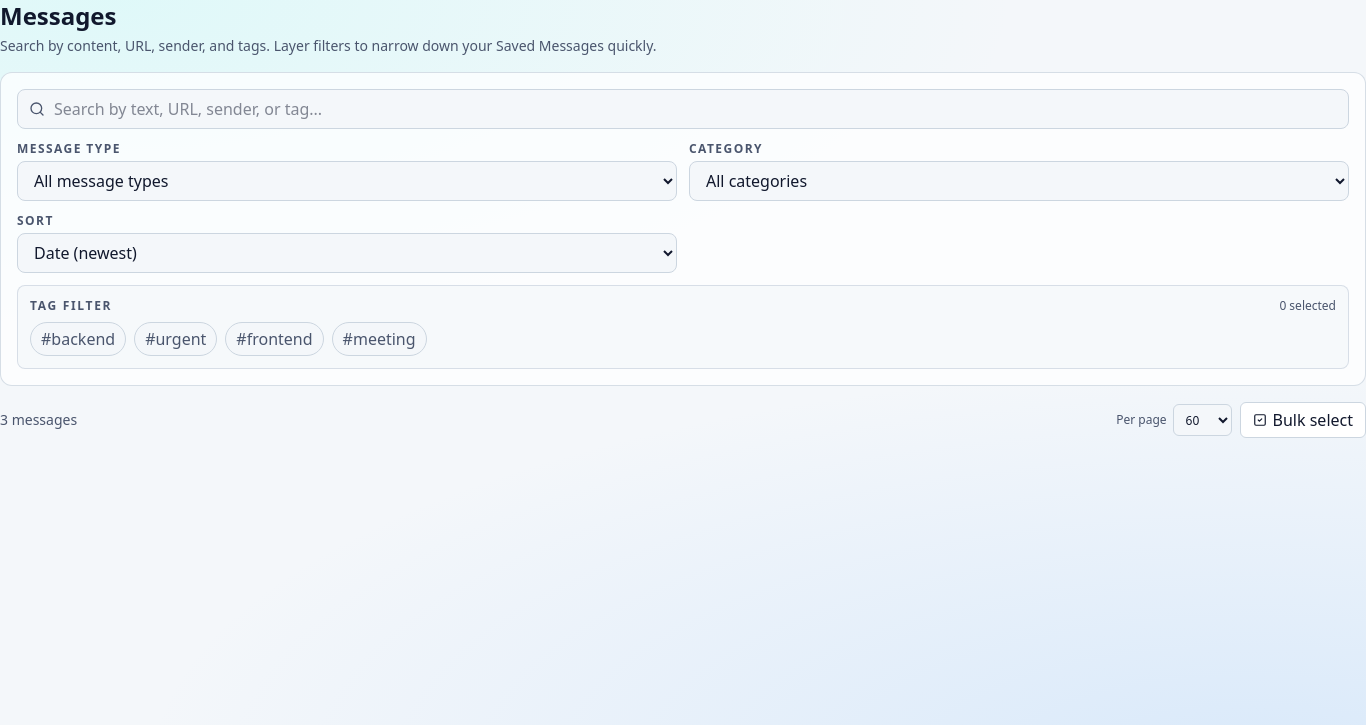
Scenario: MessagesPage actions › enters bulk selection mode and selects messages
Expected: the text "3 messages" is shown, [0,410,77,430]
Click the button "Bulk select". click: click(1303, 420)
box: [1240,402,1365,438]
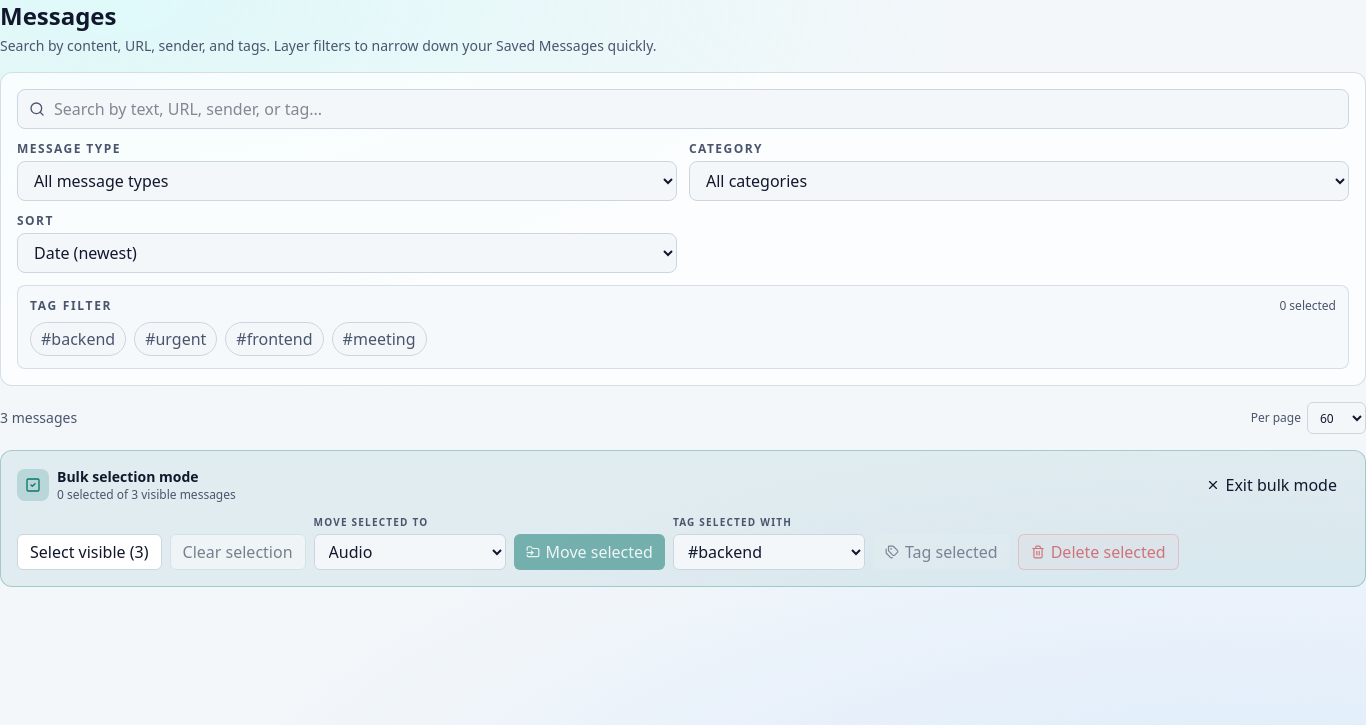
Expected: the text "Bulk selection mode" is shown, [57,467,199,486]
# Select all visible
Click the button "Select visible (3)". click: click(89, 552)
box: [17,534,162,570]
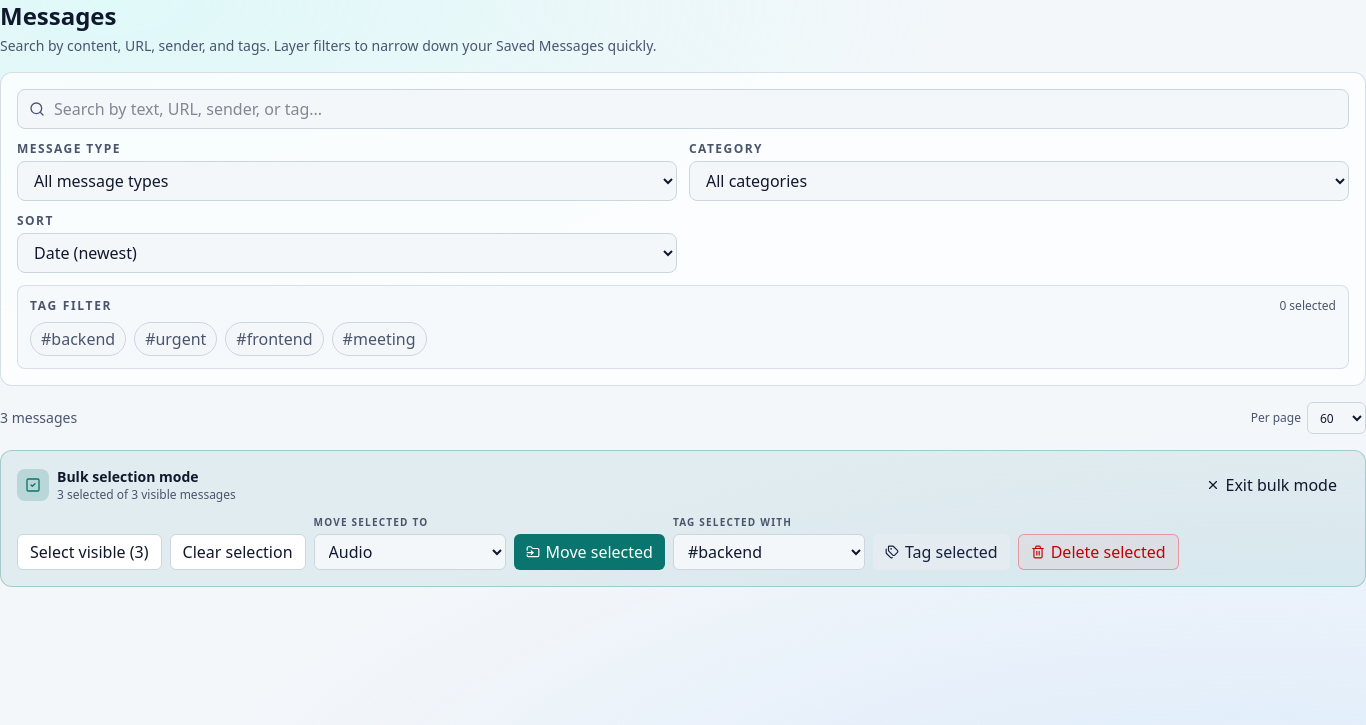
Expected: the text "3 selected of 3 visible messages" is shown, [57,487,236,503]
# Clear selection
Click the button "Clear selection". click: click(238, 552)
box: [170,534,306,570]
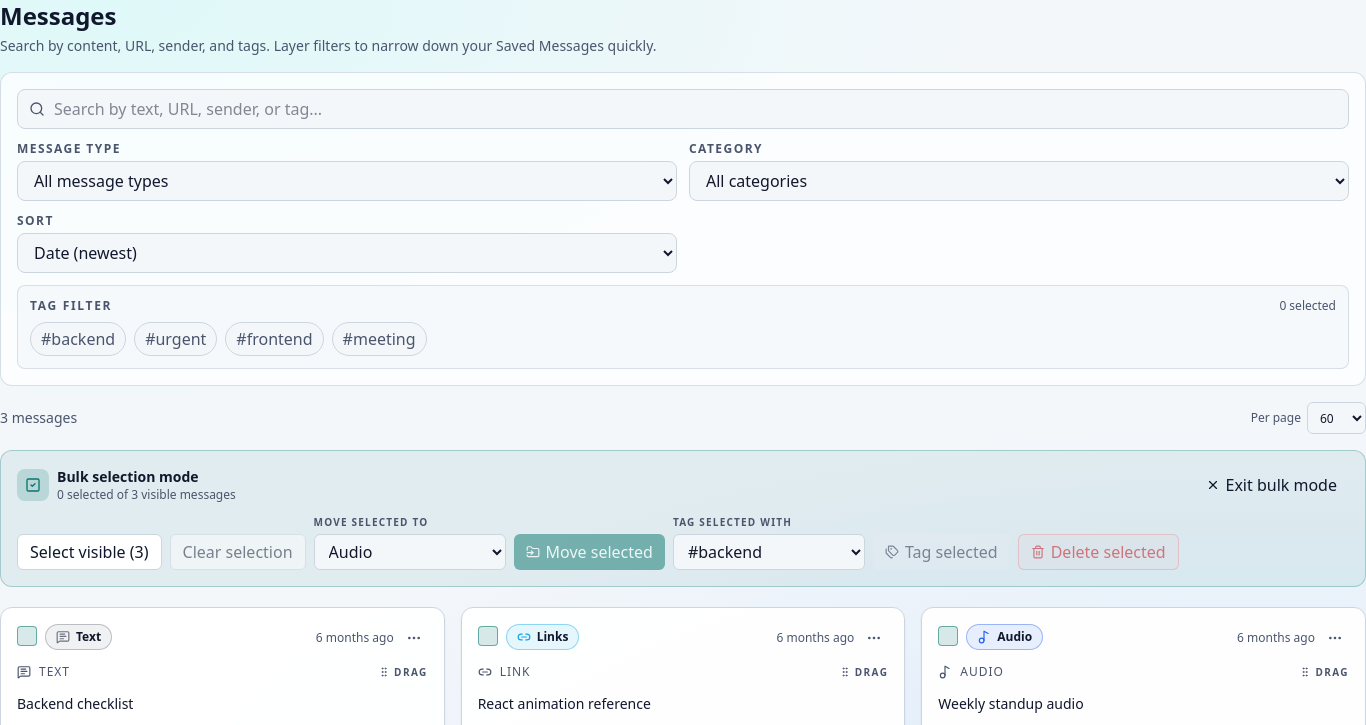
Expected: the text "0 selected of 3 visible messages" is shown, [57,487,236,503]
